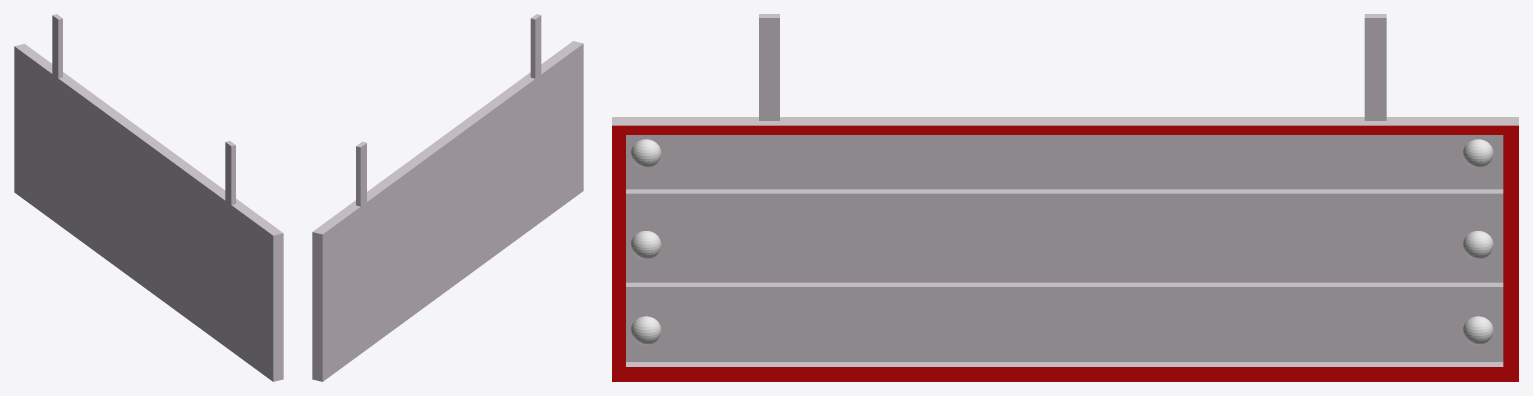
Rendered from PlacaEstacao.fbx.
3 views of the same model, side by side, from view 1: azimuth 30°, elevation 25°; view 2: azimuth 150°, elevation 25°; view 3: azimuth 270°, elevation 25° (orthographic). The views are drawn at different scales.
Parts seen in each view (by area): view 1: Cube; view 2: Cube; view 3: Cube, Sphere.002.
Part boxes in pixels (x1,y1,x2,y2): Cube: (14, 14, 283, 381); Cube: (312, 14, 583, 381); Cube: (612, 14, 1518, 381); Sphere.002: (631, 139, 1493, 344).
Bounding box in the file's own units: 37.16 × 637 × 1457.
